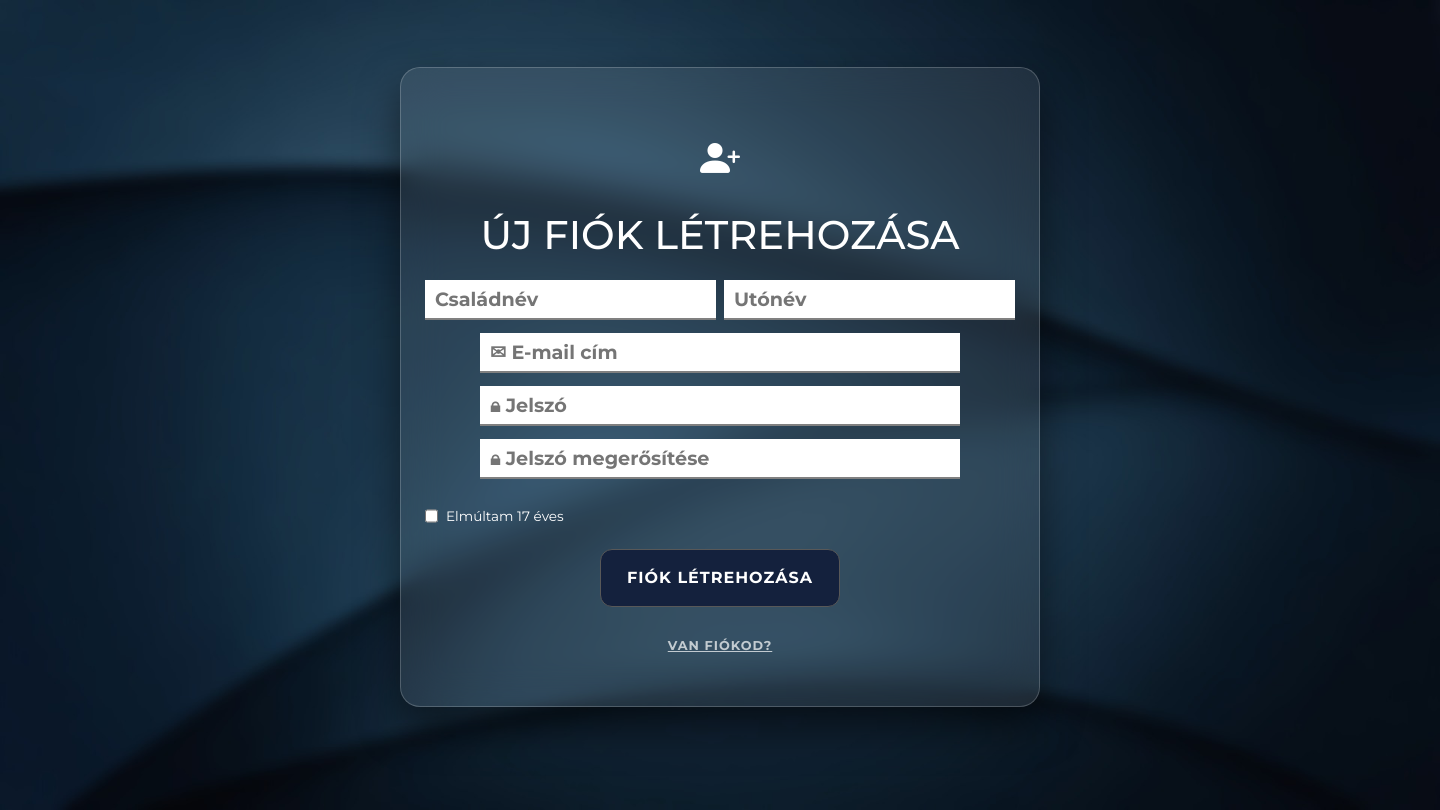
Test: StudenRegisterComp – Tanuló regisztráció › erős jelszónál megjelenik az Erős felirat
The width and height of the screenshot is (1440, 810).
(page scrolled)
Type "Eros123!" into the password field with placeholder "🔒︎ Jelszó". click: [720, 406]
box: [480, 386, 960, 426]
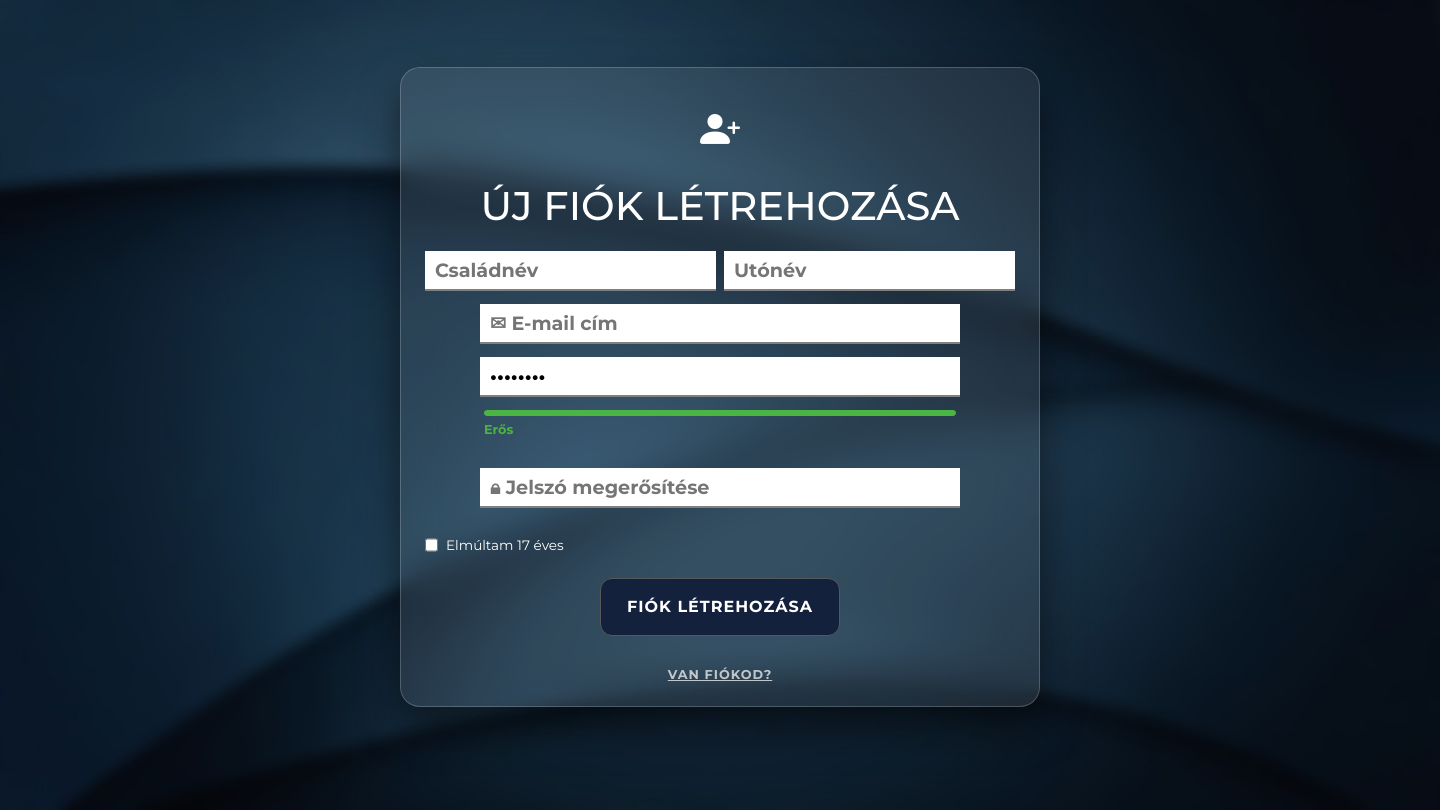
expect the text "Erős" is shown: met, box [484, 422, 513, 436]
